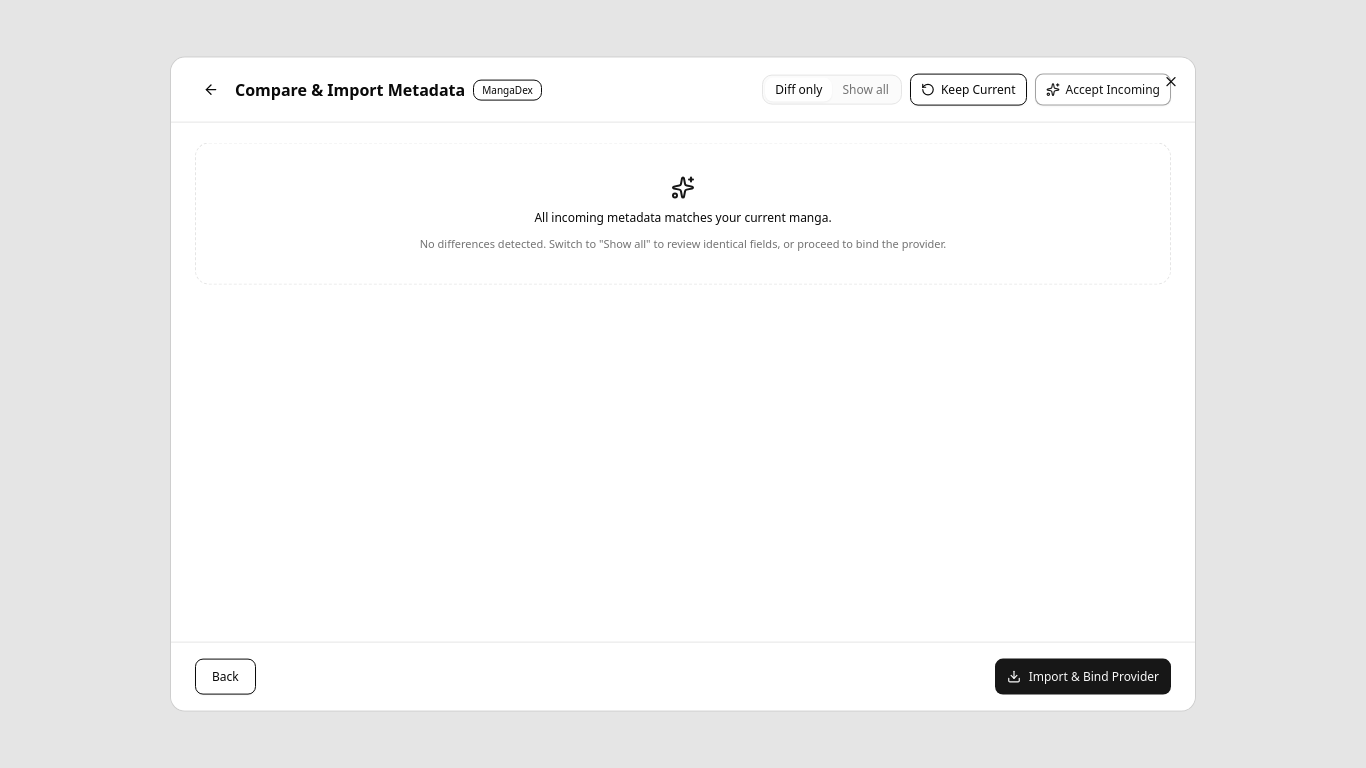
Scenario: ImportMetadataDialog › hides identical fields when Diff only is active and shows them when Show all is selected
Expected: the text "Compare & Import Metadata" is shown, [235, 78, 465, 102]
Expected: the text "All incoming metadata matches your current manga." is shown, [534, 209, 832, 226]
Switch to Show all
Click the button "Show all".
click(866, 90)  # box [832, 78, 899, 102]
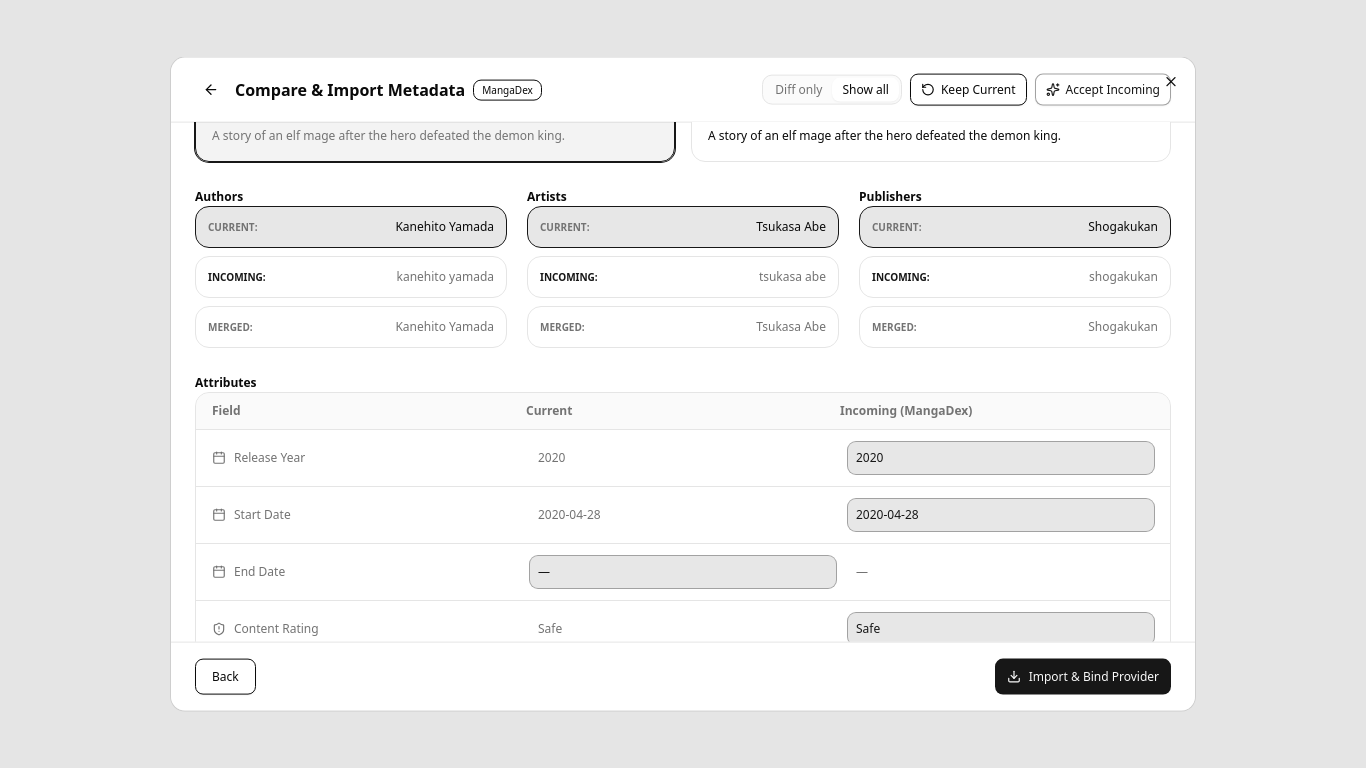
Now the text "Authors" is shown, box [195, 188, 243, 205]
Now the text "Publishers" is shown, box [859, 188, 922, 205]
Now the text "Attributes" is shown, box [195, 374, 257, 391]
